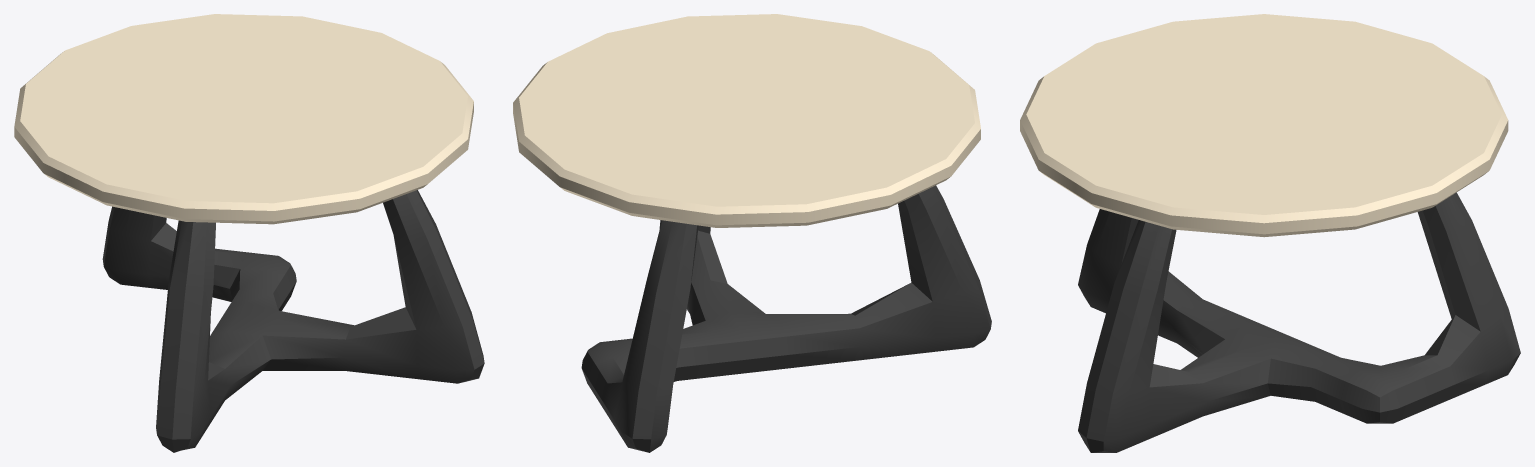
The model's file is threelegcircletable.glb.
3 views of the same model, side by side, from view 1: azimuth 30°, elevation 25°; view 2: azimuth 150°, elevation 25°; view 3: azimuth 270°, elevation 25° (orthographic). The views are drawn at different scales.
Visible parts, largest first — view 1: Cylinder, Cube; view 2: Cylinder, Cube; view 3: Cylinder, Cube.
Part boxes in pixels (x1=…): Cylinder: x1=14, y1=14, x2=473, y2=224; Cube: x1=102, y1=190, x2=484, y2=452; Cylinder: x1=513, y1=14, x2=980, y2=227; Cube: x1=581, y1=185, x2=991, y2=452; Cylinder: x1=1020, y1=14, x2=1508, y2=237; Cube: x1=1078, y1=192, x2=1520, y2=452.
Bounding box in the file's own units: 2 × 1.2 × 2.05.
